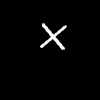single_crochet: (40, 24, 65, 49)
